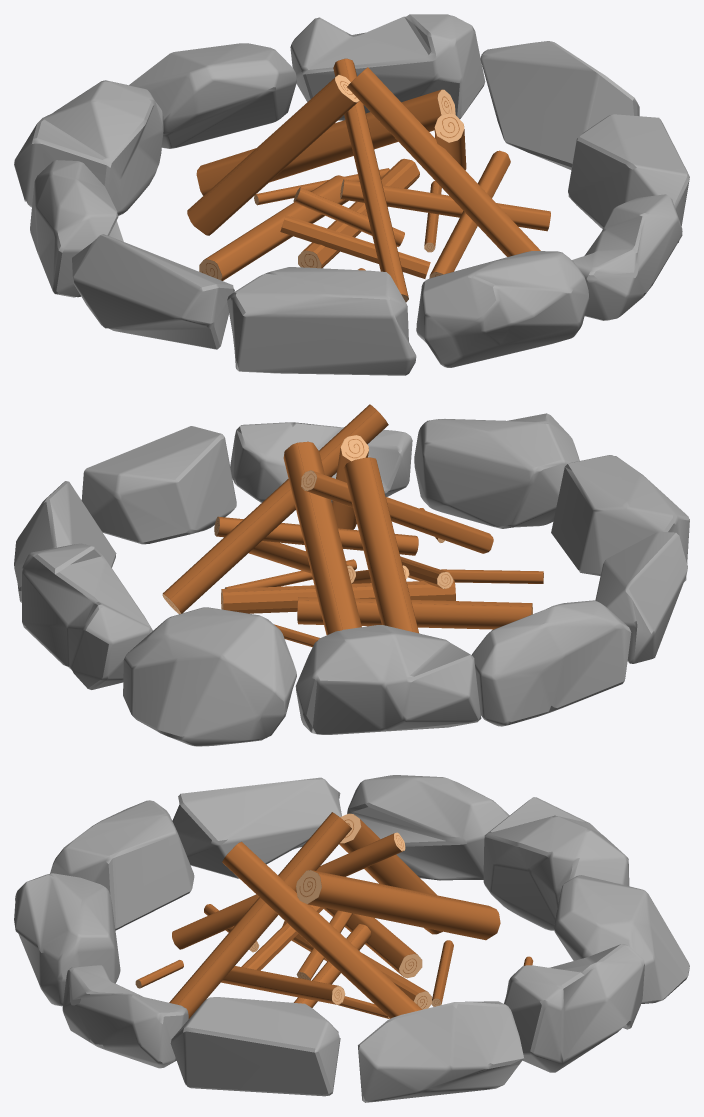
Rendered from Bonfire.fbx.
The picture shows the model from 3 angles, top to bottom: view 1: azimuth 30°, elevation 25°; view 2: azimuth 150°, elevation 25°; view 3: azimuth 270°, elevation 25°; orthographic projection. The views are drawn at different scales.
Parts seen in each view (by area): view 1: polySurface8, pCylinder18; view 2: polySurface8, pCylinder18; view 3: polySurface8, pCylinder18.
Part boxes in pixels (x1,y1,x2,y2): polySurface8: (14,14,689,375); pCylinder18: (187,58,550,302); polySurface8: (14,413,689,746); pCylinder18: (162,404,543,647); polySurface8: (14,775,689,1102); pCylinder18: (135,812,533,1018).
Bounding box in the file's own units: 0.6975 × 0.2053 × 0.7273.
Materials: 2 (1 with a texture image).
